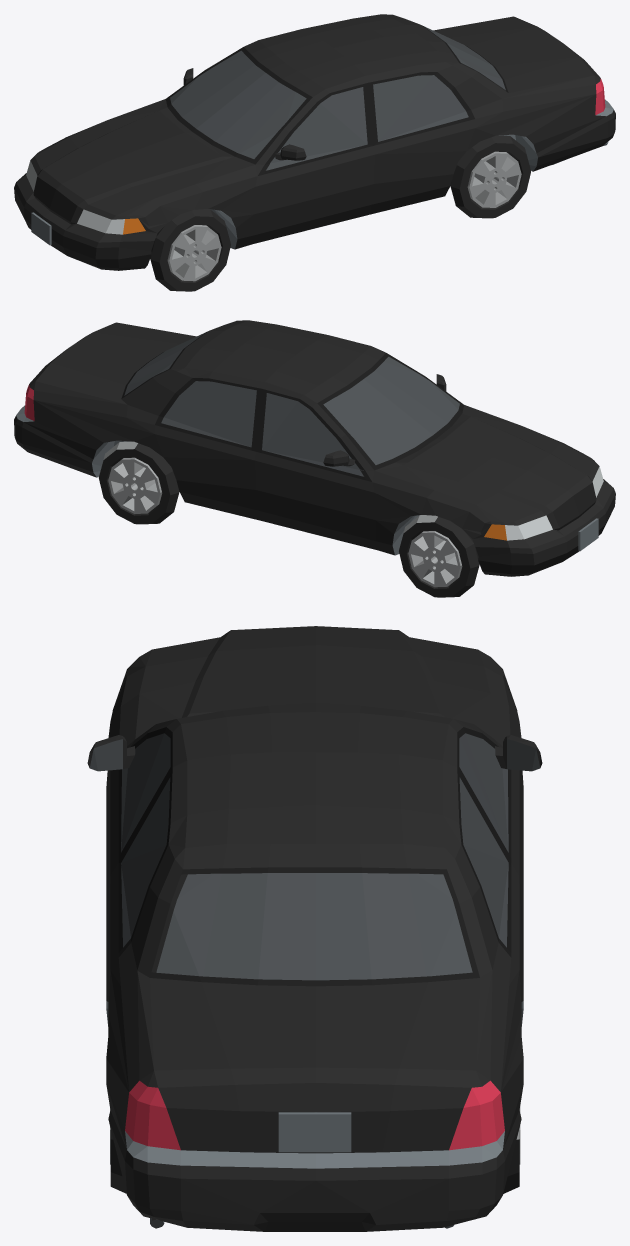
Rendered from Large-Sedan-Black.fbx.
3 renders of one model, top to bottom at view 1: azimuth 30°, elevation 25°; view 2: azimuth 150°, elevation 25°; view 3: azimuth 270°, elevation 25°, orthographic. The views are drawn at different scales.
Parts seen in each view (by area): view 1: Body.002, Wheel_FL.003, Wheel_RL.003, Headlights.002; view 2: Body.002, Wheel_FR.003, Wheel_RR.003, Headlights.002; view 3: Body.002, TailLights.002.
Boxes of the visible parts, <box> form: Body.002: <box>14,14,615,270</box>; Wheel_FL.003: <box>150,209,230,291</box>; Wheel_RL.003: <box>450,135,530,218</box>; Headlights.002: <box>26,160,124,234</box>; Body.002: <box>14,320,615,576</box>; Wheel_FR.003: <box>399,515,479,597</box>; Wheel_RR.003: <box>98,441,179,524</box>; Headlights.002: <box>505,466,603,540</box>; Body.002: <box>87,626,542,1231</box>; TailLights.002: <box>133,1086,496,1150</box>.
Bounding box in the file's own units: 5.49 × 1.59 × 2.
